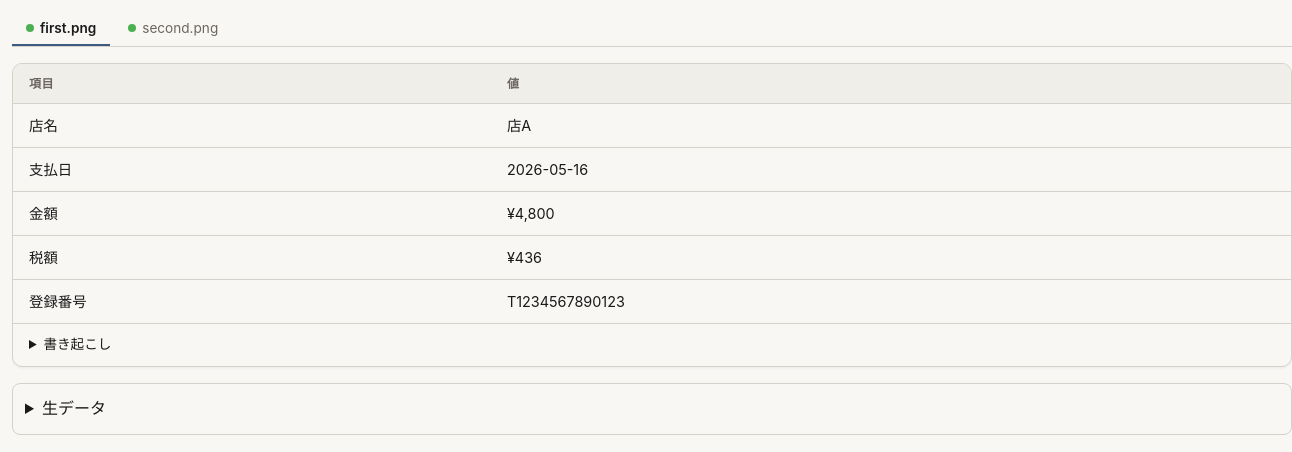
Test: ResultTabs › タブをクリックすると内容が切り替わる
The width and height of the screenshot is (1292, 452).
Check: the text "店A" is shown, box [491, 104, 1291, 148]
Click the tab "second.png". click: (173, 29)
box: [114, 12, 232, 46]
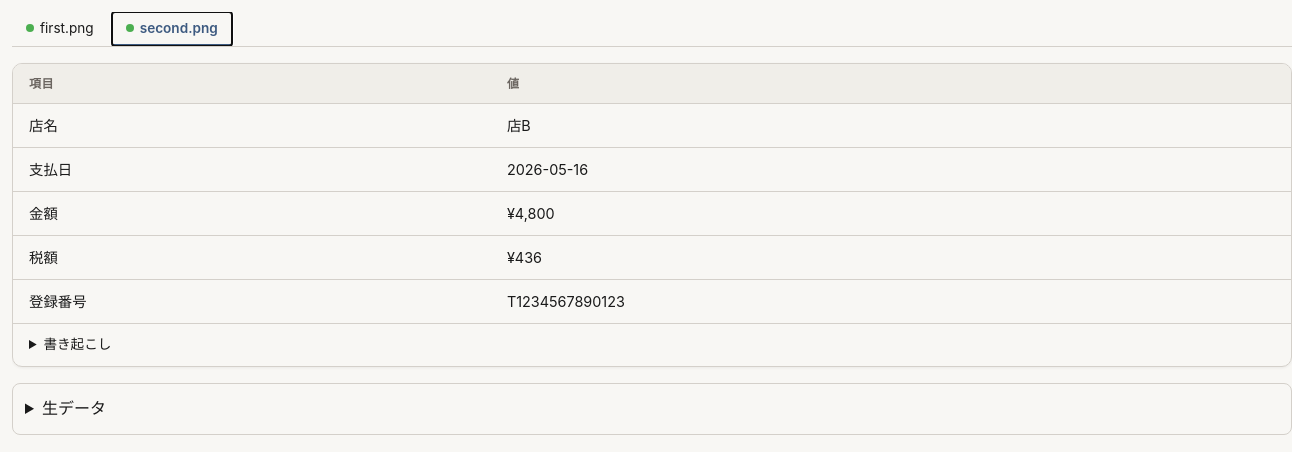
Check: the text "店B" is shown, box [491, 104, 1291, 148]
